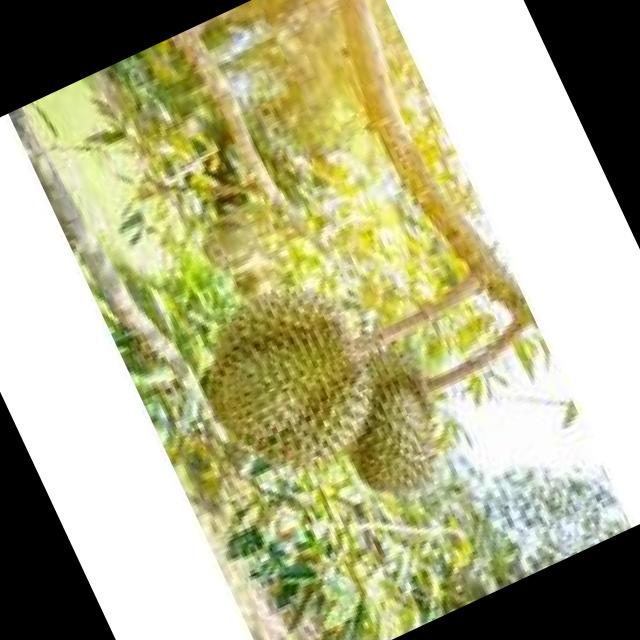fruit: (161, 238, 431, 512)
